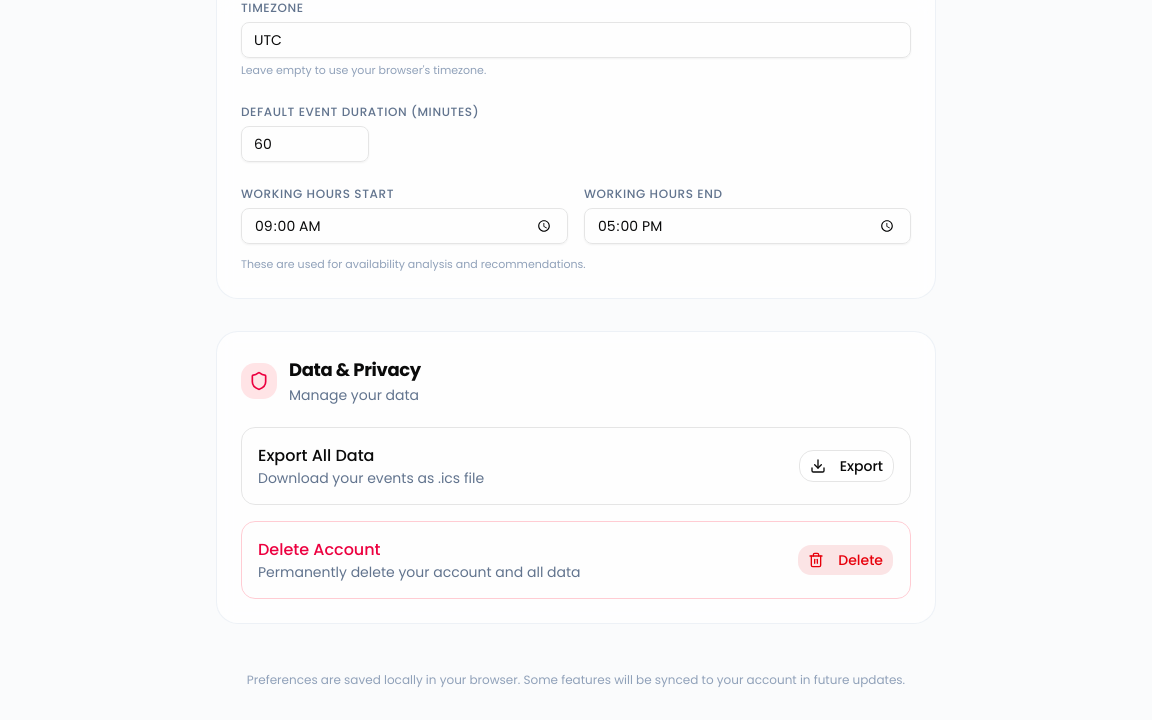
Test case: ProfilePage › exports profile data through the shared calendar export client
(page scrolled)
Click the button "Export". click: x=846, y=466
box: [799,450,894,482]
(page scrolled)
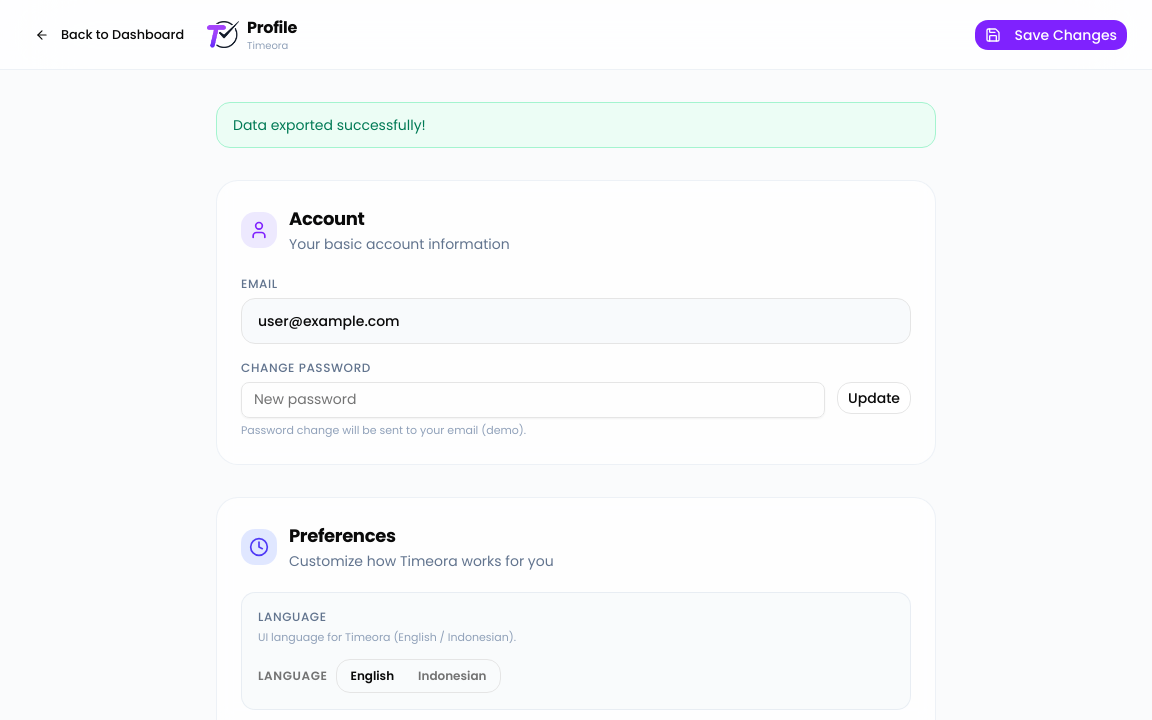
Check: the text "Data exported successfully!" is shown, box [216,102,936,148]
